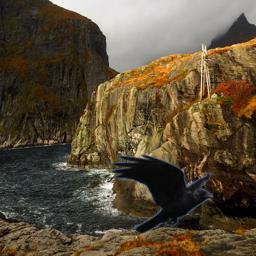Crow: (111, 153, 214, 233)
